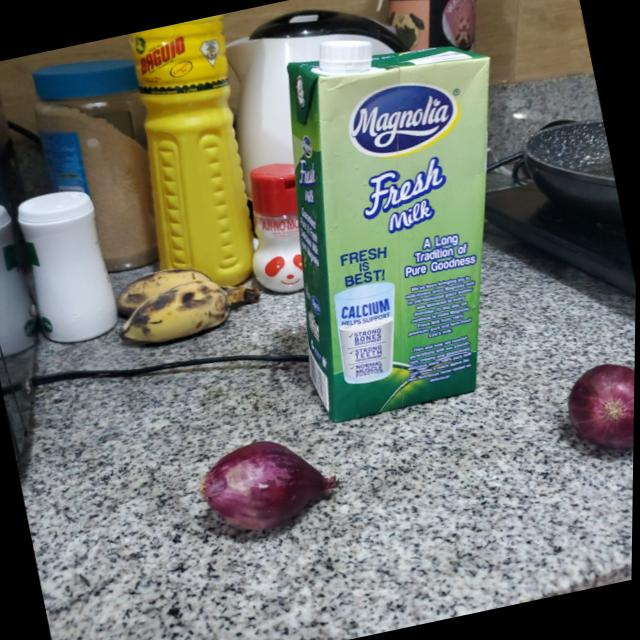milk: (242, 4, 566, 422)
onion: (196, 426, 352, 545), (561, 356, 636, 460)
